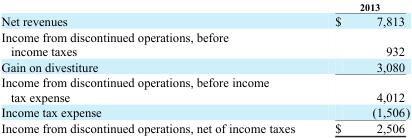table: (0, 0, 409, 134)
table column: (0, 0, 314, 134), (314, 0, 409, 134)
table column header: (0, 0, 409, 12)
table row: (0, 28, 409, 58), (0, 74, 409, 104), (0, 12, 409, 28), (0, 58, 409, 74), (0, 104, 409, 119), (0, 119, 409, 134), (0, 0, 409, 12)
